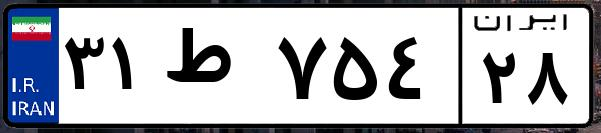1: (110, 28, 158, 98)
2: (475, 38, 525, 113)
3: (57, 26, 110, 100)
4: (385, 28, 445, 110)
5: (330, 28, 385, 110)
7: (270, 28, 330, 110)
8: (525, 38, 570, 115)
ط: (158, 20, 270, 120)
